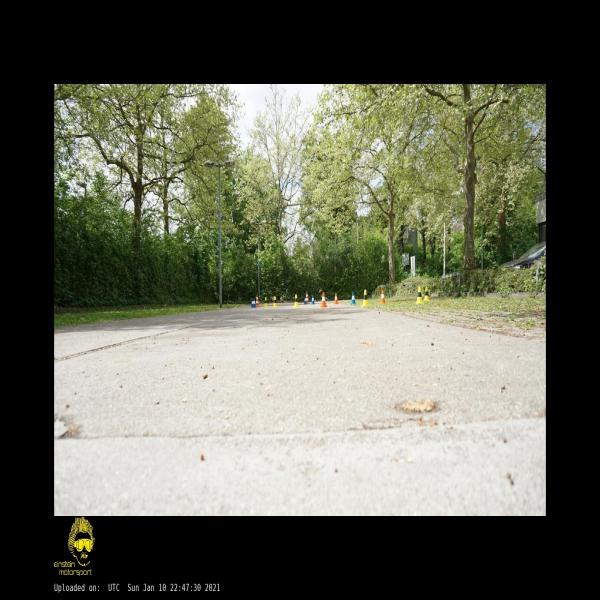blue_cone: (350, 292, 356, 305), (311, 295, 315, 304), (251, 300, 255, 308), (304, 296, 307, 305)
large_orange_cone: (255, 294, 260, 306), (306, 291, 309, 304)
orange_cone: (320, 292, 327, 307), (380, 290, 385, 304), (334, 293, 338, 304)
yellow_cone: (416, 286, 423, 304), (362, 290, 369, 306), (293, 295, 299, 307), (424, 286, 429, 300), (274, 296, 278, 308), (264, 297, 268, 307)
